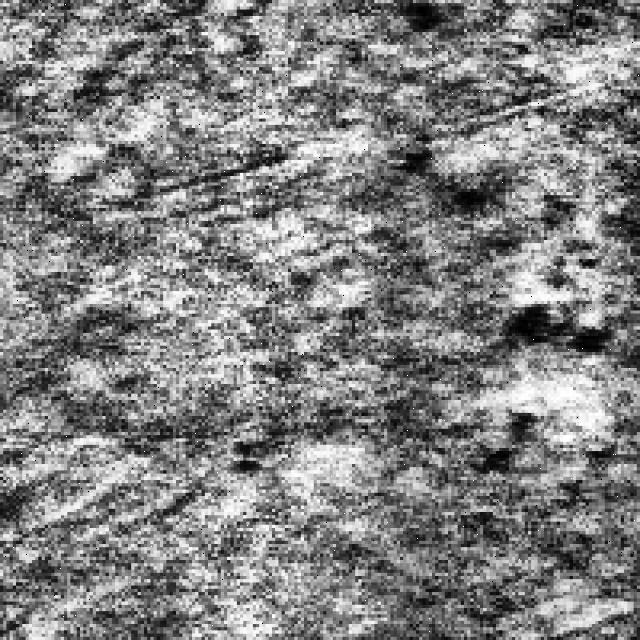Crazing: (474, 275, 604, 496)
